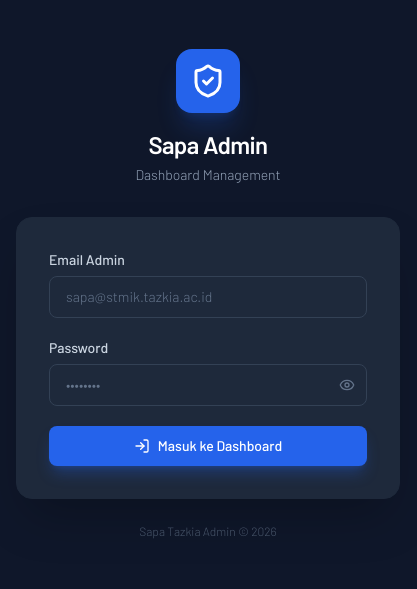
Test: AdminLogin › shows API error message on failure
Type "a@x.com" into the field with placeholder "sapa@stmik.tazkia.ac.id" at (208, 297), box [49,276,367,318]
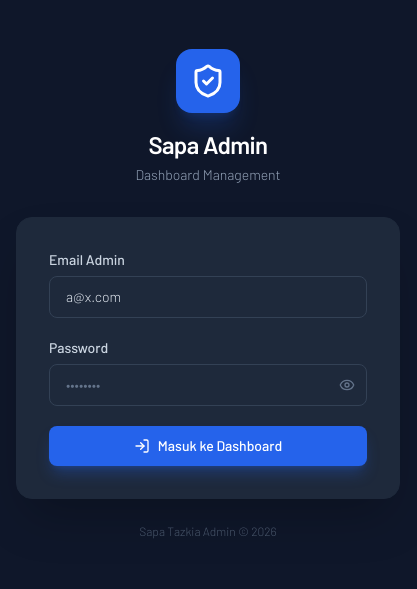
Type "pw" into the password field with placeholder "••••••••" at (208, 385), box [49,364,367,406]
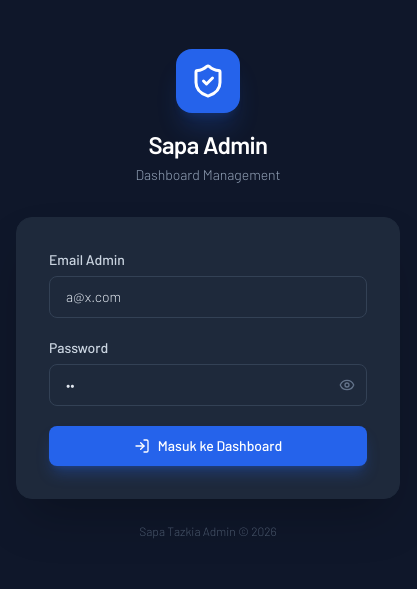
Click the button "Masuk ke Dashboard" at (208, 446), box [49,426,367,466]
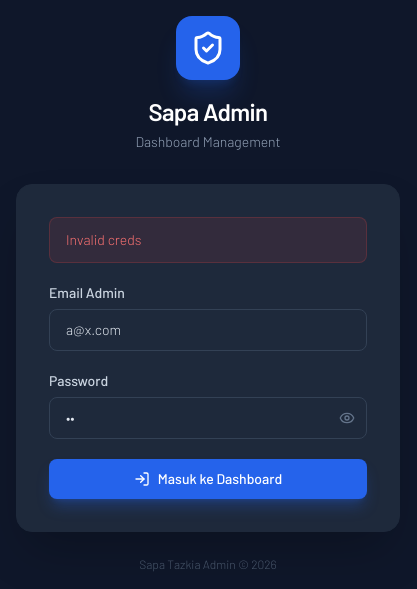
Check: the text "Invalid creds" is shown, box [49,217,367,263]
